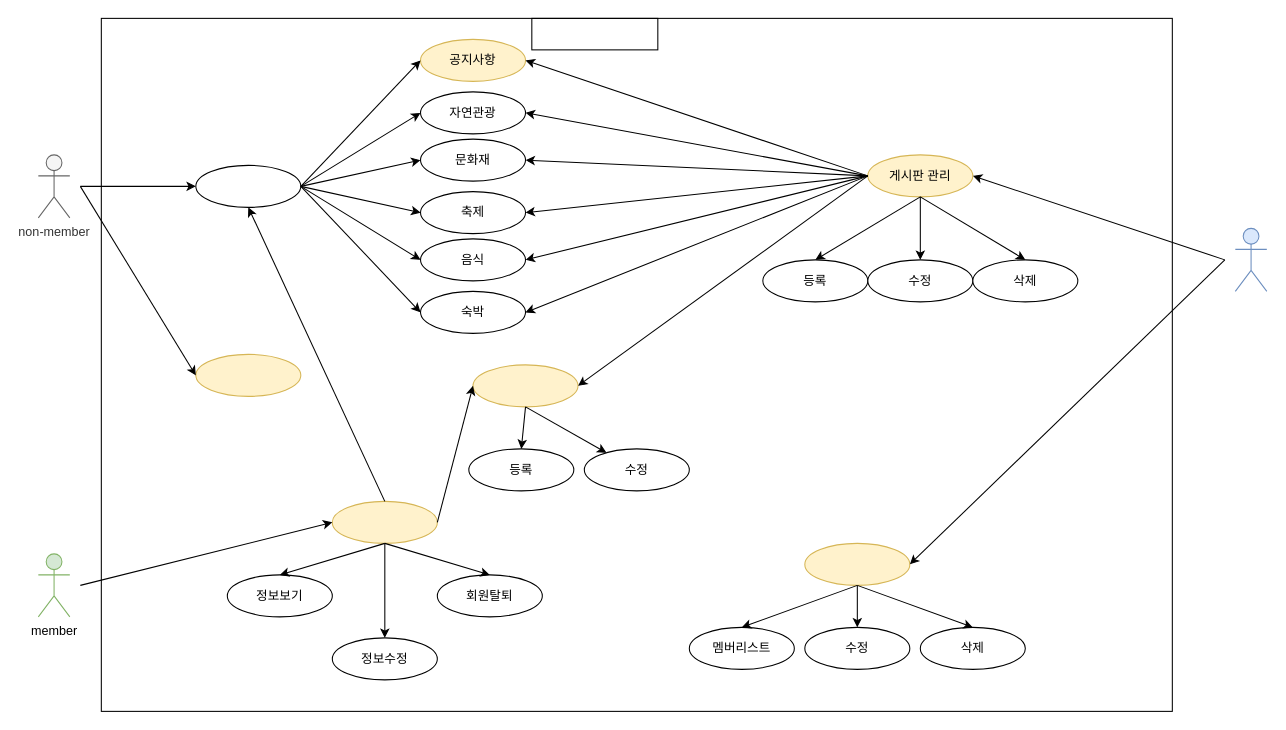
The diagram is 1286 pixels wide and 730 high, and some of its shapes have lost their labels. The shapes that lost their labels are listed below. From the top down, each one's centre as x and y in pixels, then its label:
At point 594,33: "SYSTEM".
At point 248,185: "정보검색".
At point 1250,259: "admin".
At point 248,374: "회원가입".
At point 525,385: "이용후기".
At point 384,521: "로그인".
At point 857,563: "회원관리".
